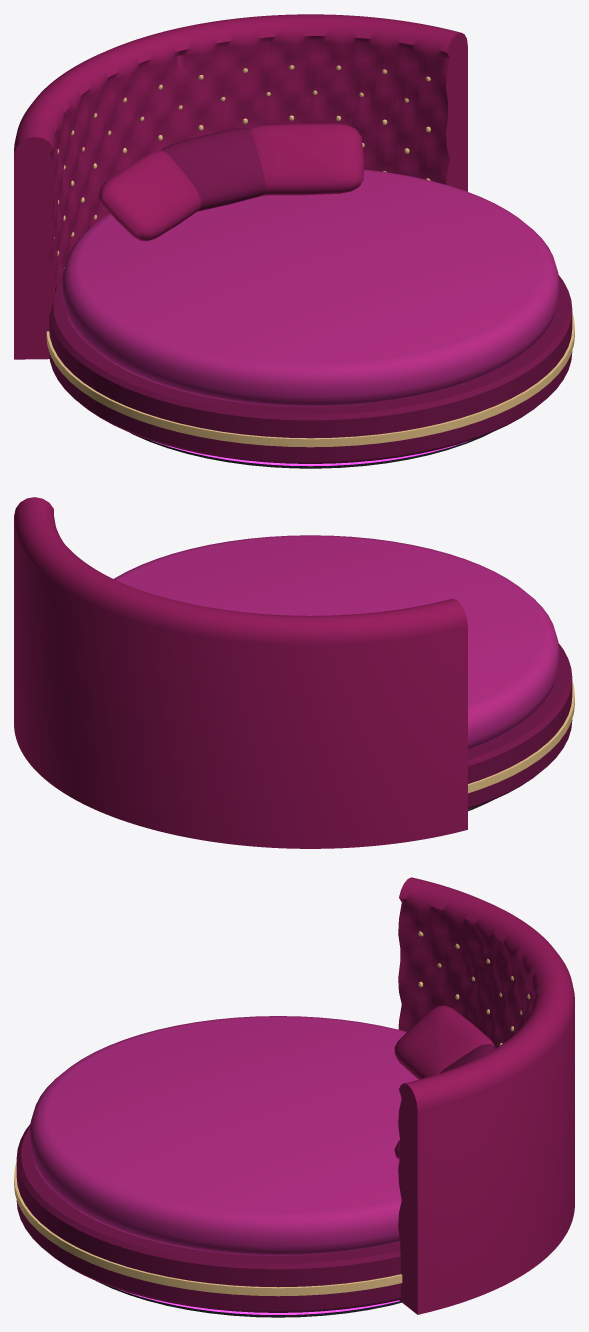
File: KIT_Cama_Redonda.glb
The picture shows the model from 3 angles, top to bottom: view 1: azimuth 30°, elevation 25°; view 2: azimuth 150°, elevation 25°; view 3: azimuth 270°, elevation 25°; orthographic projection.
Parts seen in each view (by area): view 1: KIT_Cama_Redonda; view 2: KIT_Cama_Redonda; view 3: KIT_Cama_Redonda.
Part boxes in pixels (x1,y1,x2,y2): KIT_Cama_Redonda: (14,14,574,468); KIT_Cama_Redonda: (14,497,574,848); KIT_Cama_Redonda: (14,877,574,1317).
Size of the model in its own units: 2.42 by 1.2 by 2.57.
